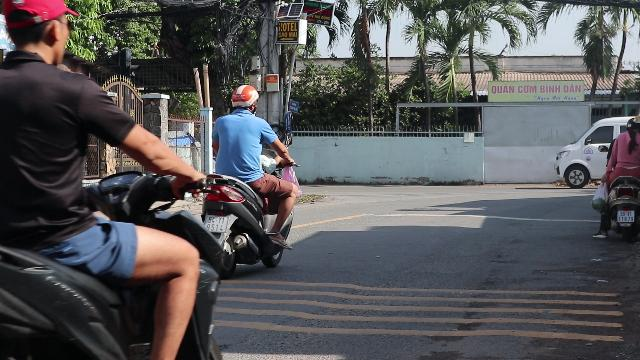helmet: (229, 84, 259, 112), (625, 114, 639, 134)
licenseplate: (204, 216, 228, 231), (618, 210, 634, 221)
motorcyclist: (197, 82, 299, 278), (590, 112, 640, 241)
